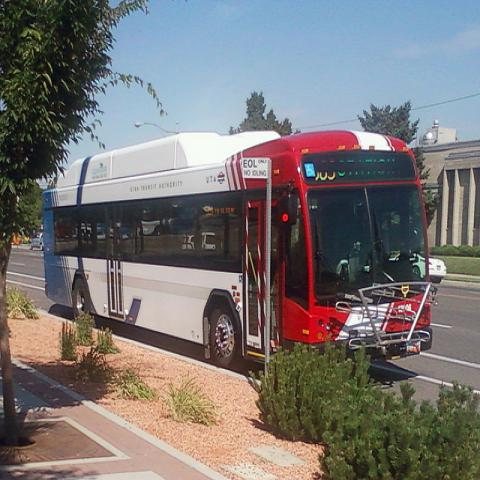bus: (41, 126, 453, 355)
car: (412, 253, 447, 284), (31, 231, 44, 250)
